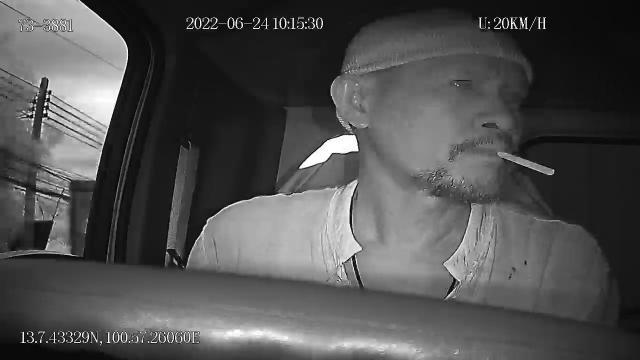SafeDriving: (431, 66, 481, 96)
Smoking: (496, 152, 556, 176)
